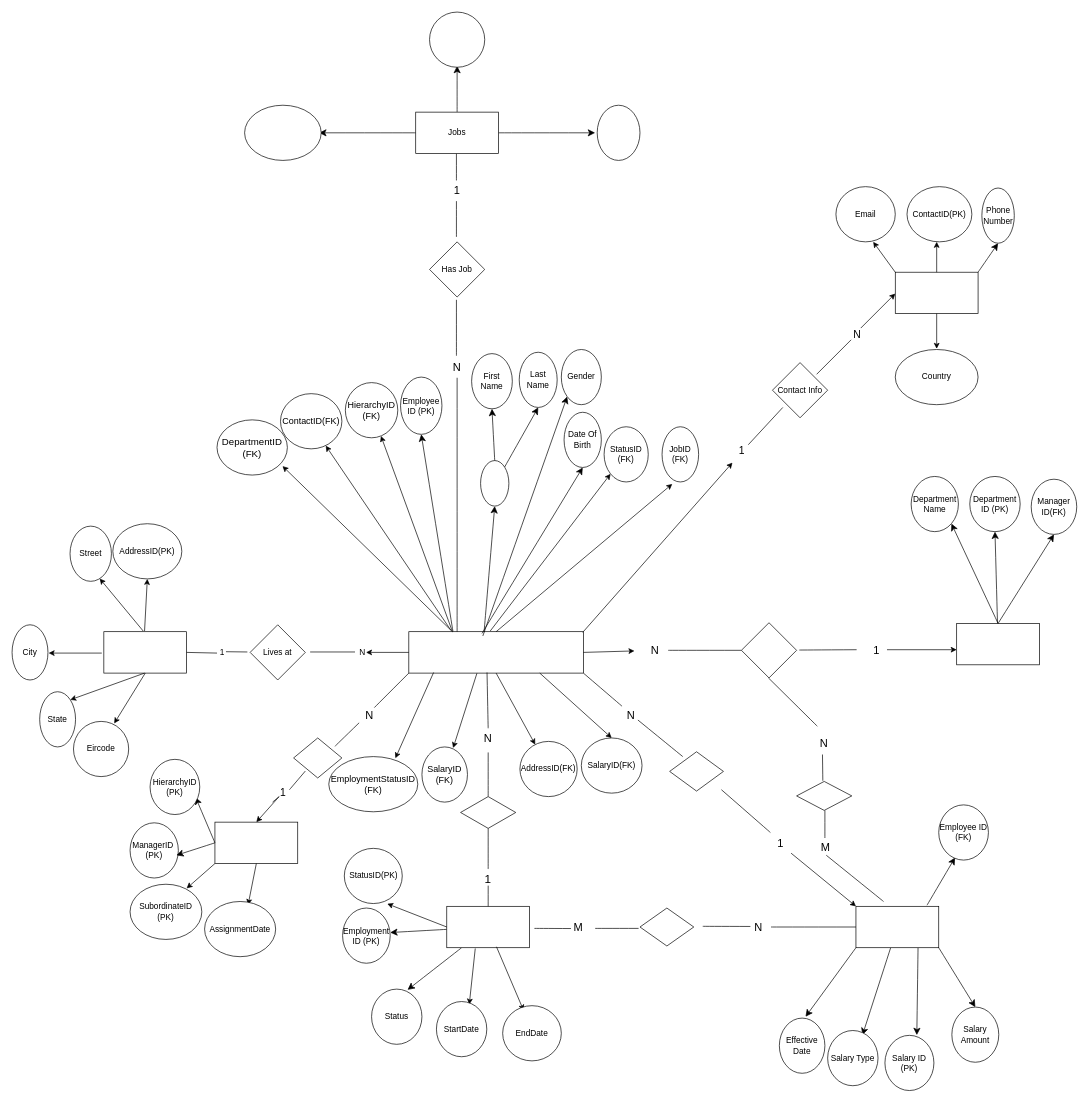
Image size: 1089x1103. Some labels were removed from this diagram. Each missing label, with the centre of its shape:
Address: (145,652)
Available As: (666,926)
Contact: (936,293)
Department: (997,644)
Employee: (495,652)
Employment Status: (488,927)
Has Salary: (696,771)
Has Status: (488,812)
Includes: (824,795)
Job_Title ID (PK): (457,39)
Language: (618,132)
Managerial Hierarchy: (256,842)
Name: (494,483)
RequiredSkill: (282,132)
Salary: (897,927)
Speaks: (317,757)
Works In: (769,650)
